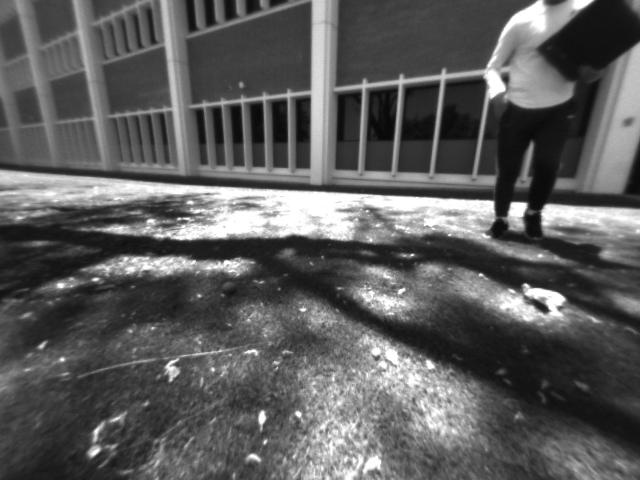dogtoy: (214, 275, 243, 300)
